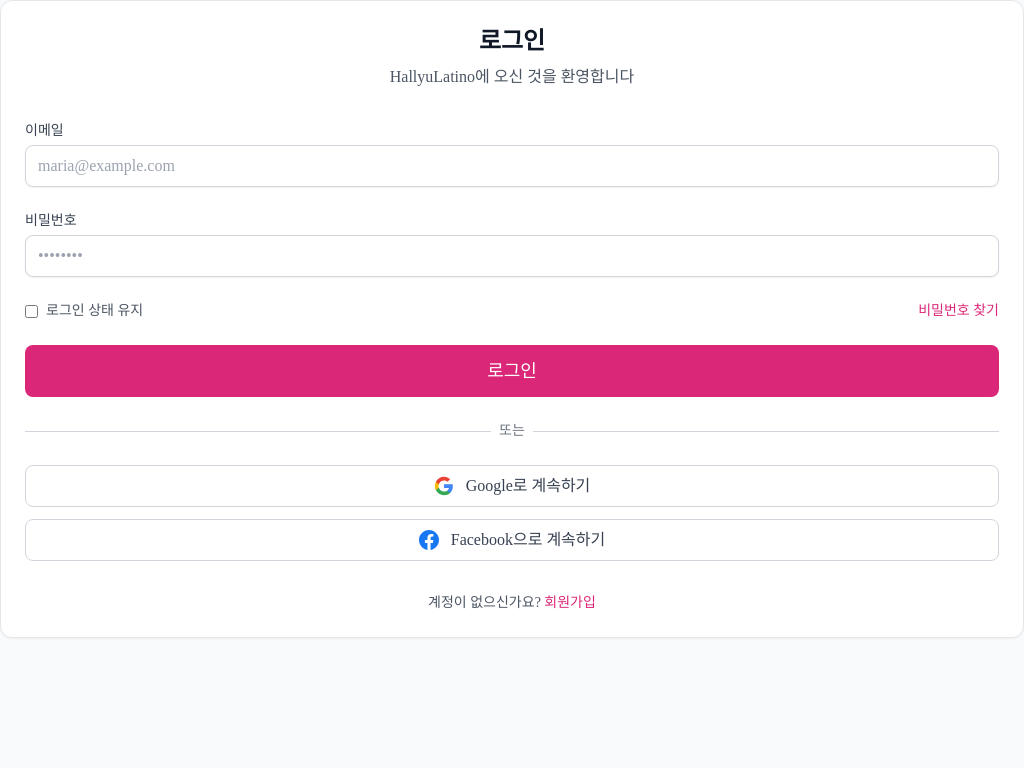
LoginForm › Validation › should_clear_error_when_user_starts_typing
// 빈 상태로 제출해서 에러 발생
Click the button "로그인" at [512, 371], box [25,345,999,397]
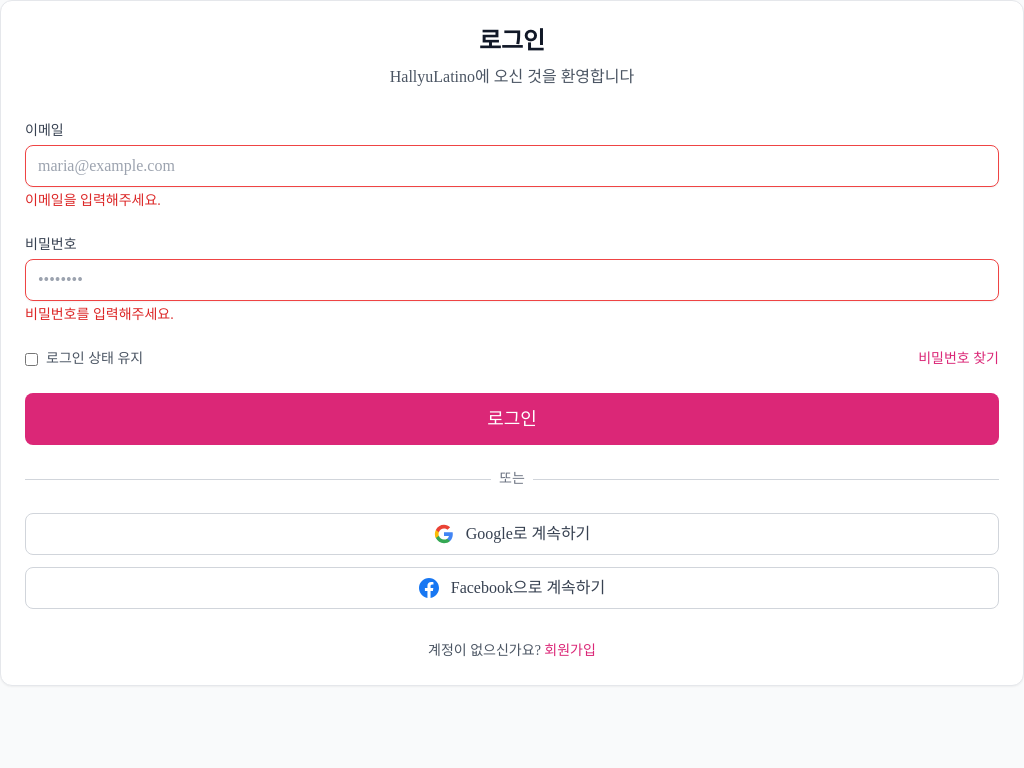
Now the text "이메일을 입력해주세요." is shown, box [25,193,161,208]
// 입력 시작하면 에러 클리어
Type "a" into the field labelled "이메일" at [512, 166], box [25,145,999,187]
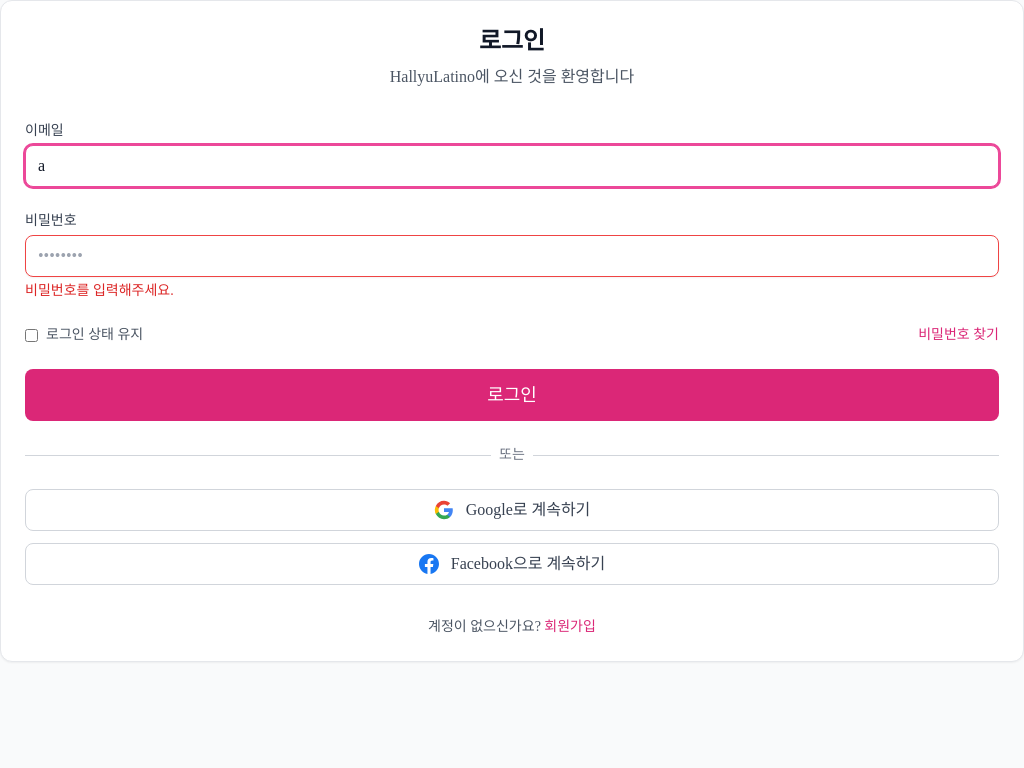
Now the text "이메일을 입력해주세요" is gone
